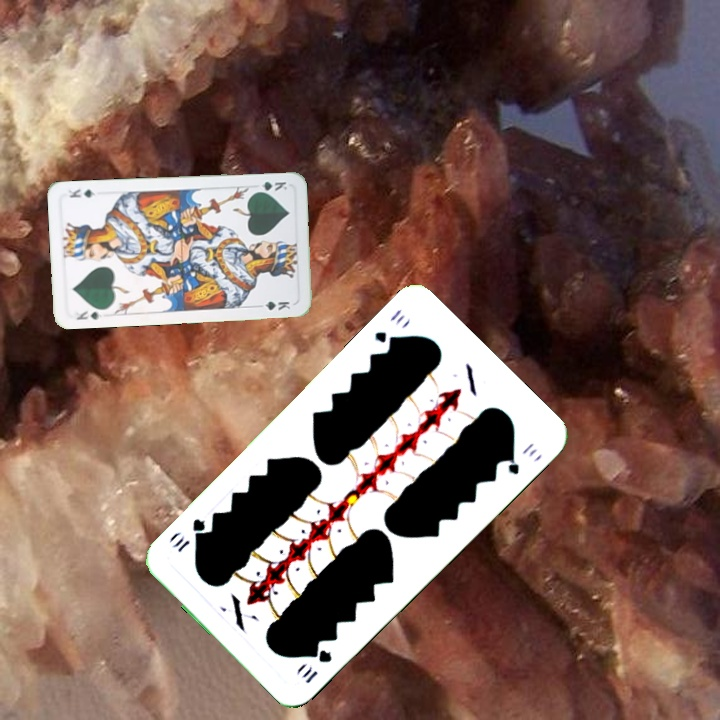G10: (370, 304, 408, 349), (298, 645, 335, 686)
GK: (250, 178, 289, 195), (71, 307, 105, 322)
